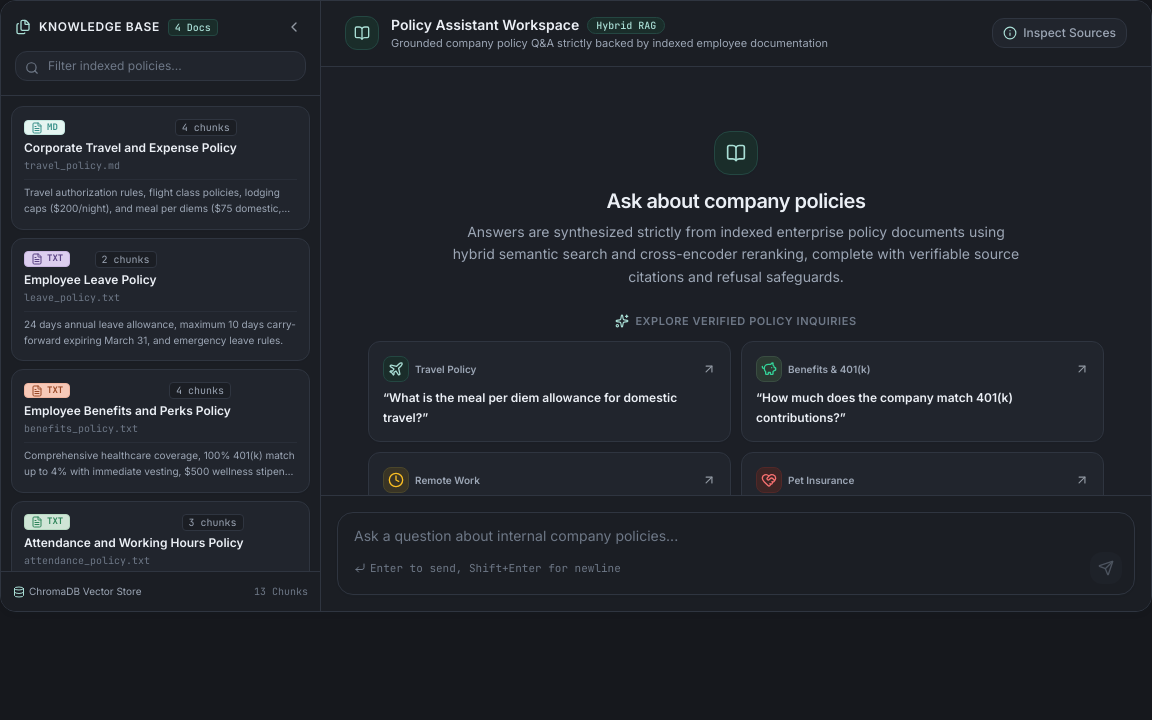
Test case: PolicyChatWorkspace › sends question from empty state and renders assistant answer with citations
Click the button "What is the meal per diem allowance for domestic travel?" at (550, 392), box [368,341,731,442]
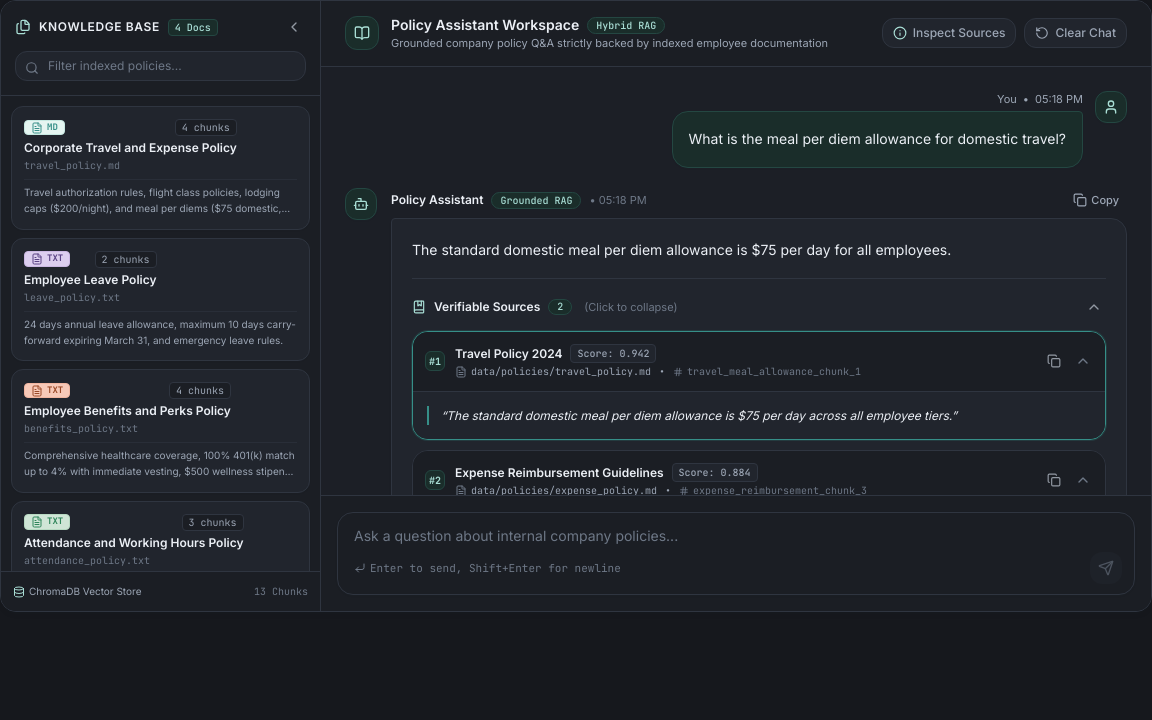
Expected: the text "What is the meal per diem allowance for domestic travel?" is shown, [672,111,1083,168]
Expected: the text "The standard domestic meal per diem allowance is $75 per day for all employees." is shown, [412,241,951,258]
Expected: the text "Travel Policy 2024" is shown, [455,346,562,362]
